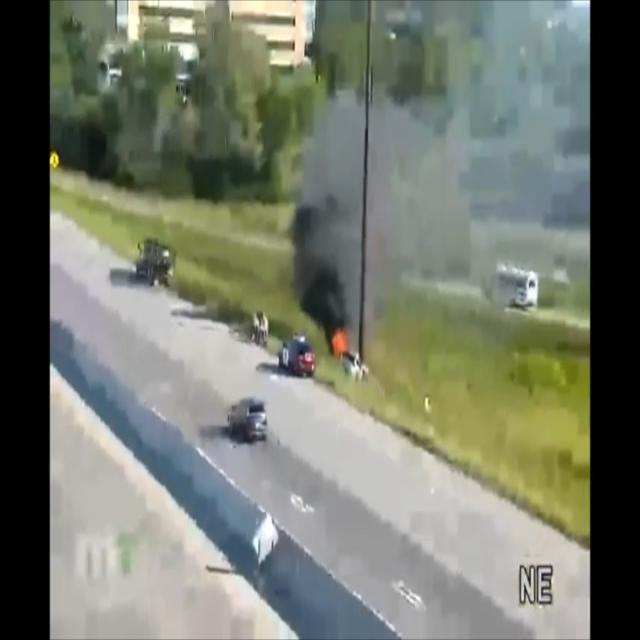fire: (332, 316, 348, 366)
